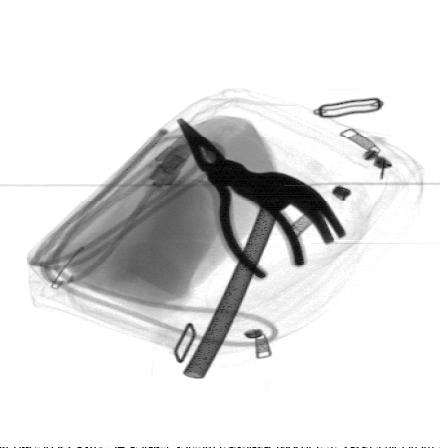Hammer: (183, 158, 347, 378)
Pliers: (176, 118, 308, 280)
